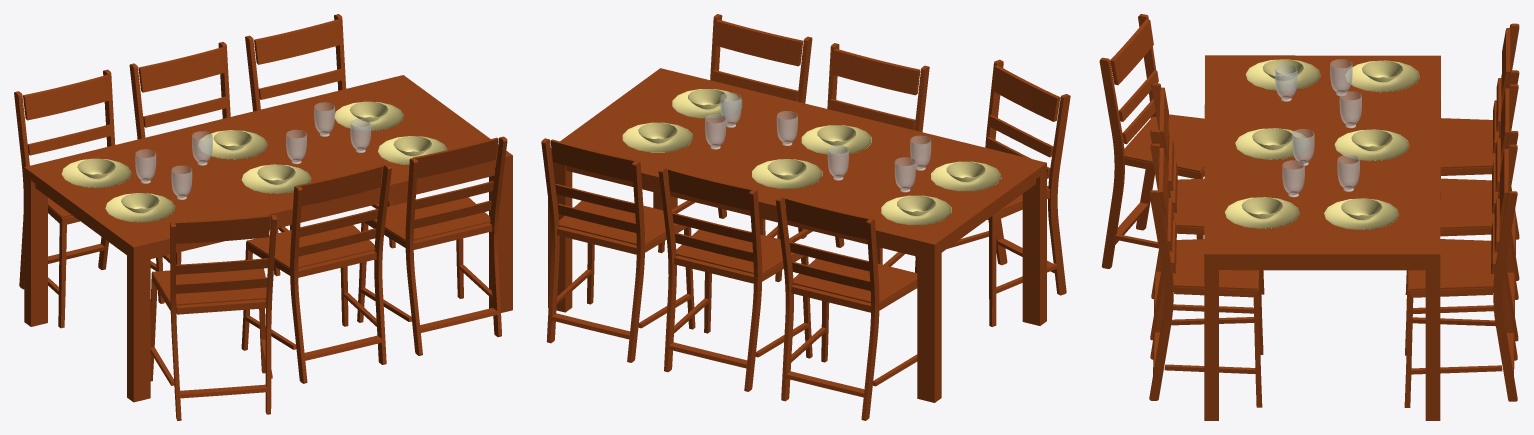
The model's file is IKEA-Markor_Table_And_Harald_Chairs-3D.obj.
3 views of the same model, side by side, from view 1: azimuth 30°, elevation 25°; view 2: azimuth 150°, elevation 25°; view 3: azimuth 270°, elevation 25° (orthographic). The views are drawn at different scales.
Parts seen in each view (by area): view 1: Box01, Object06, Object05, Object07, Object02, Object03, Object04, Rectangle3, Rectangle2, Rectangle4, Rectangle5, Rectangle1 (+7 smaller); view 2: Box01, Object04, Object03, Object02, Object07, Object06, Object05, Rectangle3, Rectangle5, Rectangle2, Rectangle4, Rectangle1 (+7 smaller); view 3: Box01, Object07, Object04, Object05, Object03, Object02, Object06, Rectangle0, Rectangle4, Rectangle5, Rectangle3, Rectangle2 (+7 smaller).
Part boxes in pixels (x1=…): Box01: x1=24, y1=75, x2=512, y2=402; Object06: x1=241, y1=164, x2=391, y2=383; Object05: x1=357, y1=136, x2=507, y2=355; Object07: x1=150, y1=215, x2=277, y2=420; Object02: x1=14, y1=69, x2=164, y2=328; Object03: x1=129, y1=42, x2=280, y2=276; Object04: x1=245, y1=14, x2=395, y2=248; Rectangle3: x1=61, y1=158, x2=131, y2=187; Rectangle2: x1=105, y1=193, x2=175, y2=222; Rectangle4: x1=198, y1=130, x2=267, y2=159; Rectangle5: x1=334, y1=101, x2=403, y2=130; Rectangle1: x1=241, y1=164, x2=311, y2=193; Box01: x1=548, y1=68, x2=1046, y2=402; Object04: x1=541, y1=138, x2=695, y2=362; Object03: x1=658, y1=167, x2=812, y2=391; Object02: x1=775, y1=196, x2=917, y2=420; Object07: x1=915, y1=59, x2=1070, y2=326; Object06: x1=775, y1=43, x2=929, y2=282; Object05: x1=658, y1=14, x2=812, y2=253; Rectangle3: x1=881, y1=195, x2=951, y2=225; Rectangle5: x1=622, y1=122, x2=692, y2=152; Rectangle2: x1=931, y1=161, x2=1001, y2=191; Rectangle4: x1=752, y1=159, x2=822, y2=188; Rectangle1: x1=801, y1=125, x2=871, y2=154; Box01: x1=1204, y1=55, x2=1440, y2=420; Object07: x1=1099, y1=14, x2=1204, y2=268; Object04: x1=1404, y1=144, x2=1517, y2=407; Object05: x1=1149, y1=143, x2=1263, y2=407; Object03: x1=1405, y1=84, x2=1518, y2=341; Object02: x1=1440, y1=23, x2=1519, y2=280; Object06: x1=1150, y1=83, x2=1264, y2=340; Rectangle0: x1=1225, y1=197, x2=1299, y2=228; Rectangle4: x1=1334, y1=129, x2=1409, y2=161; Rectangle5: x1=1324, y1=198, x2=1398, y2=229; Rectangle3: x1=1345, y1=60, x2=1419, y2=92; Rectangle2: x1=1245, y1=59, x2=1320, y2=90.
Bounding box in the file's own units: 4812 × 2392 × 4293.
